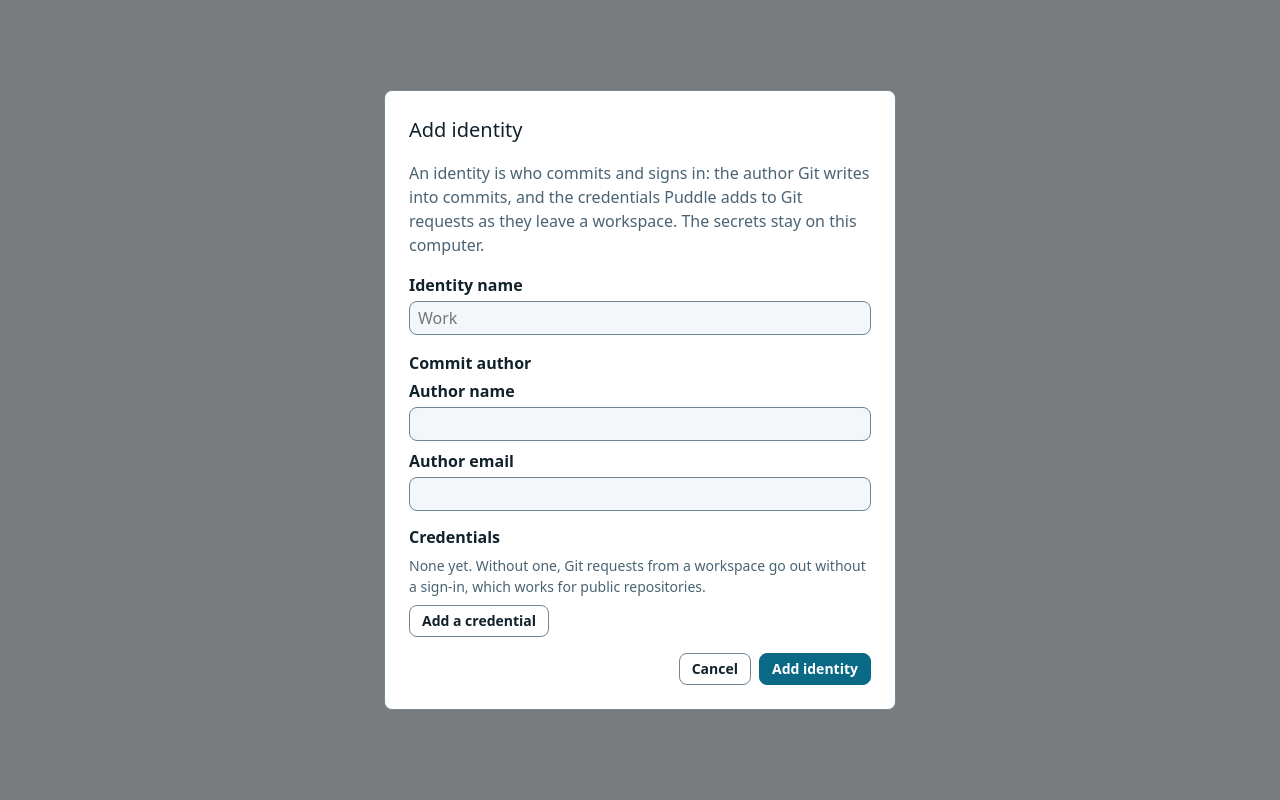
it: adding an identity › checks the name and the author first and puts focus on the first problem
Click the button "Add identity": coordinates (815, 669) left=759, top=653, right=871, bottom=685
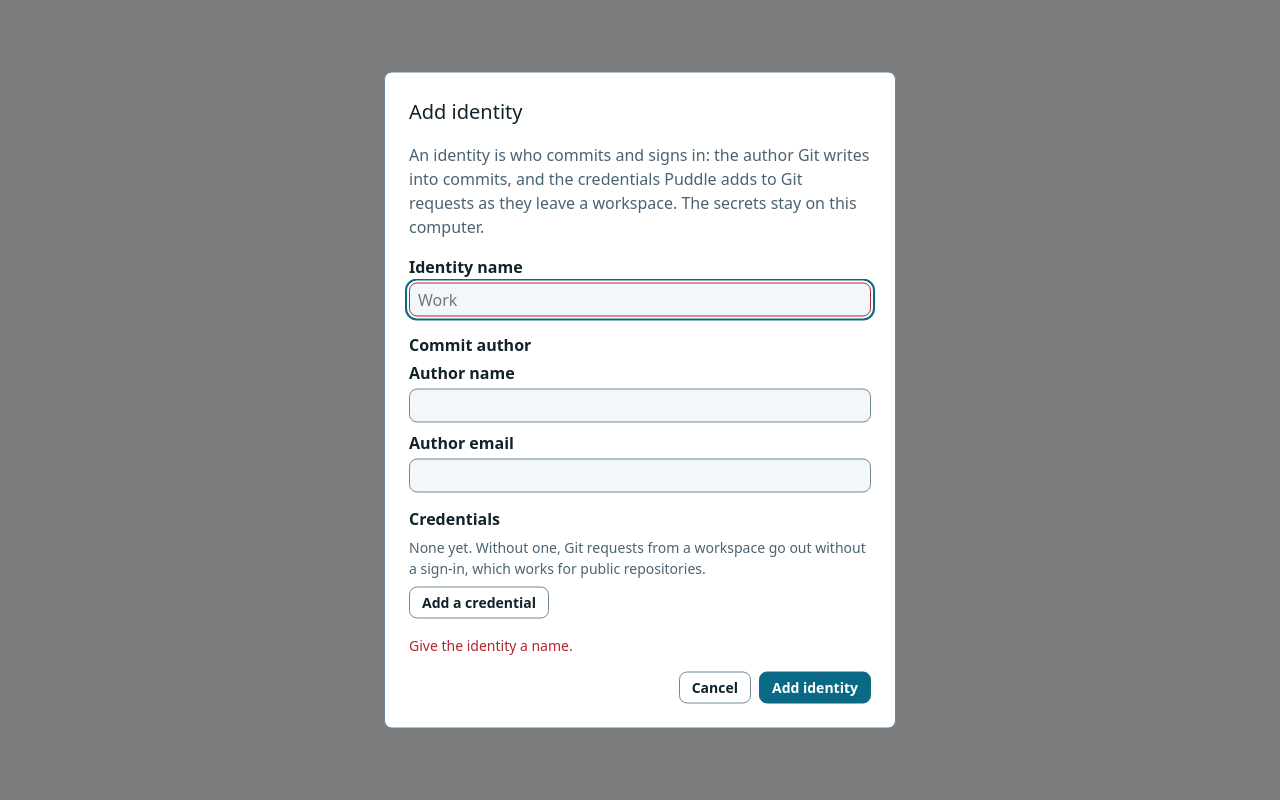
Check: the message shows "Give the identity a name", box left=409, top=636, right=573, bottom=654
In the field labelled "Identity name": coordinates (640, 300) left=409, top=282, right=871, bottom=316, type "work"
Click the button "Add identity": coordinates (815, 688) left=759, top=672, right=871, bottom=704
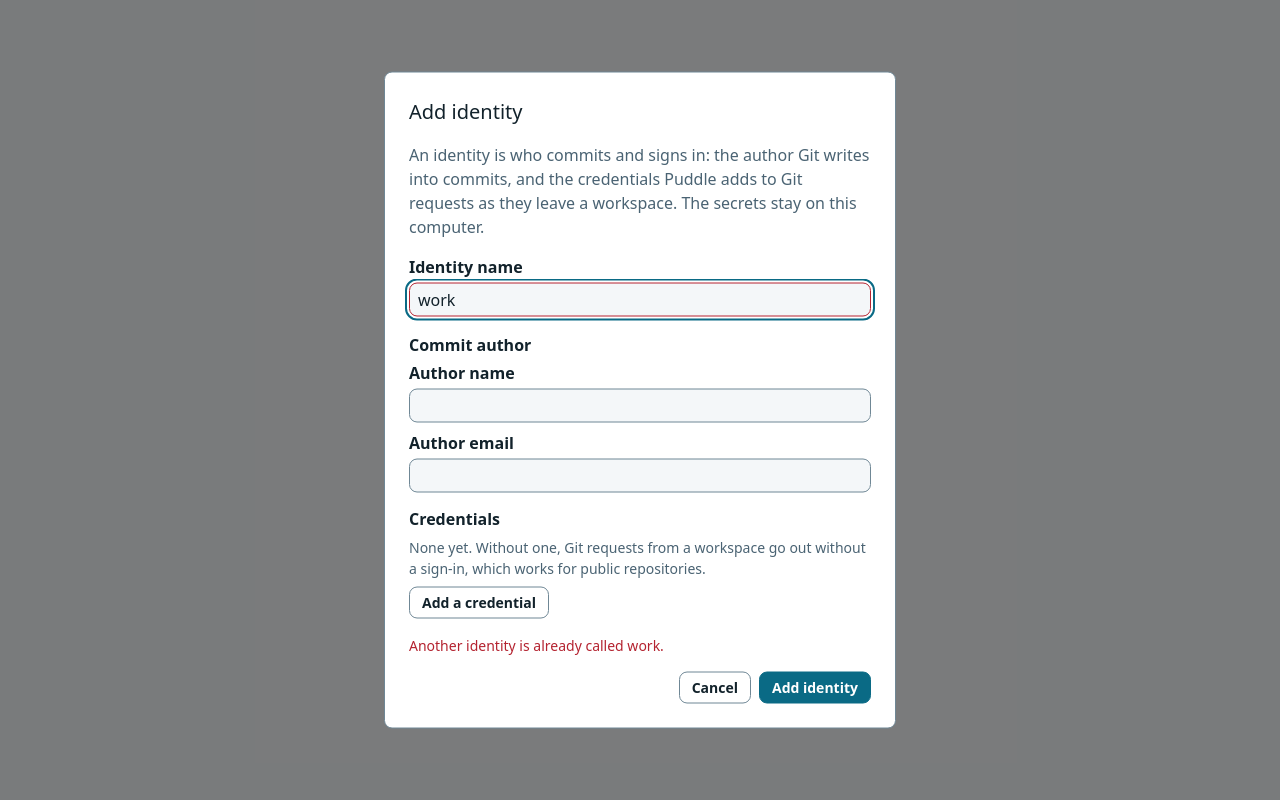
Check: the message shows "already called work", box left=409, top=636, right=664, bottom=654
Replace the text in the field labelled "Identity name" with "Home": coordinates (640, 300) left=409, top=282, right=871, bottom=316
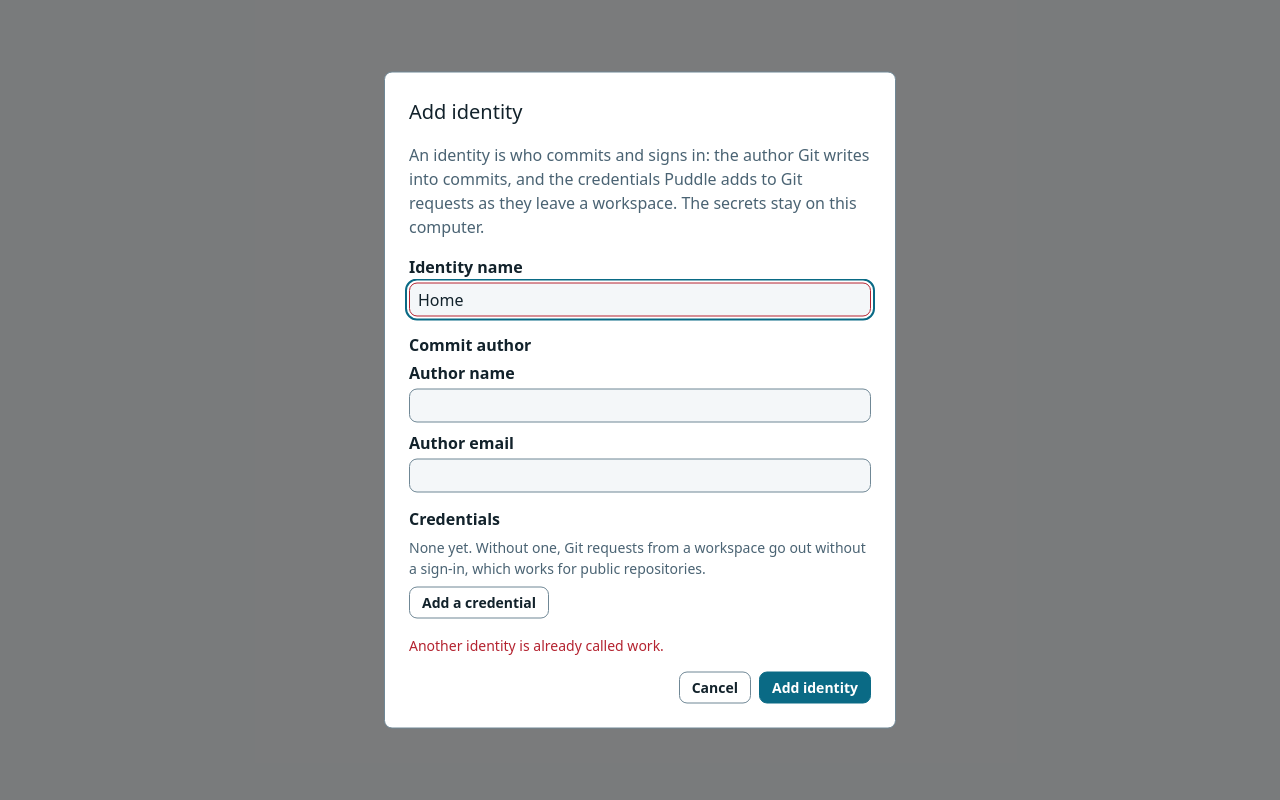
Click the button "Add identity": coordinates (815, 688) left=759, top=672, right=871, bottom=704
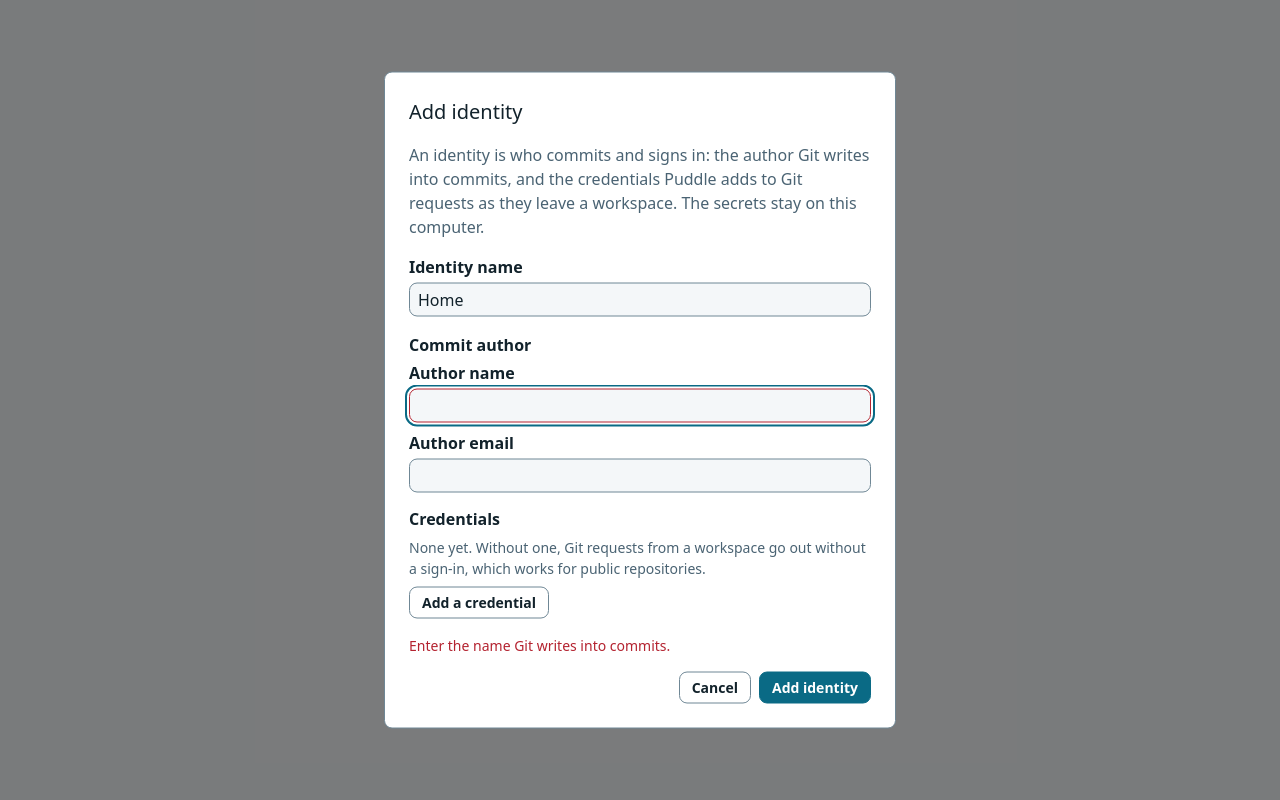
Check: the message shows "Enter the name Git writes", box left=409, top=636, right=670, bottom=654
In the field labelled "Author name": coordinates (640, 406) left=409, top=388, right=871, bottom=422, type "A"
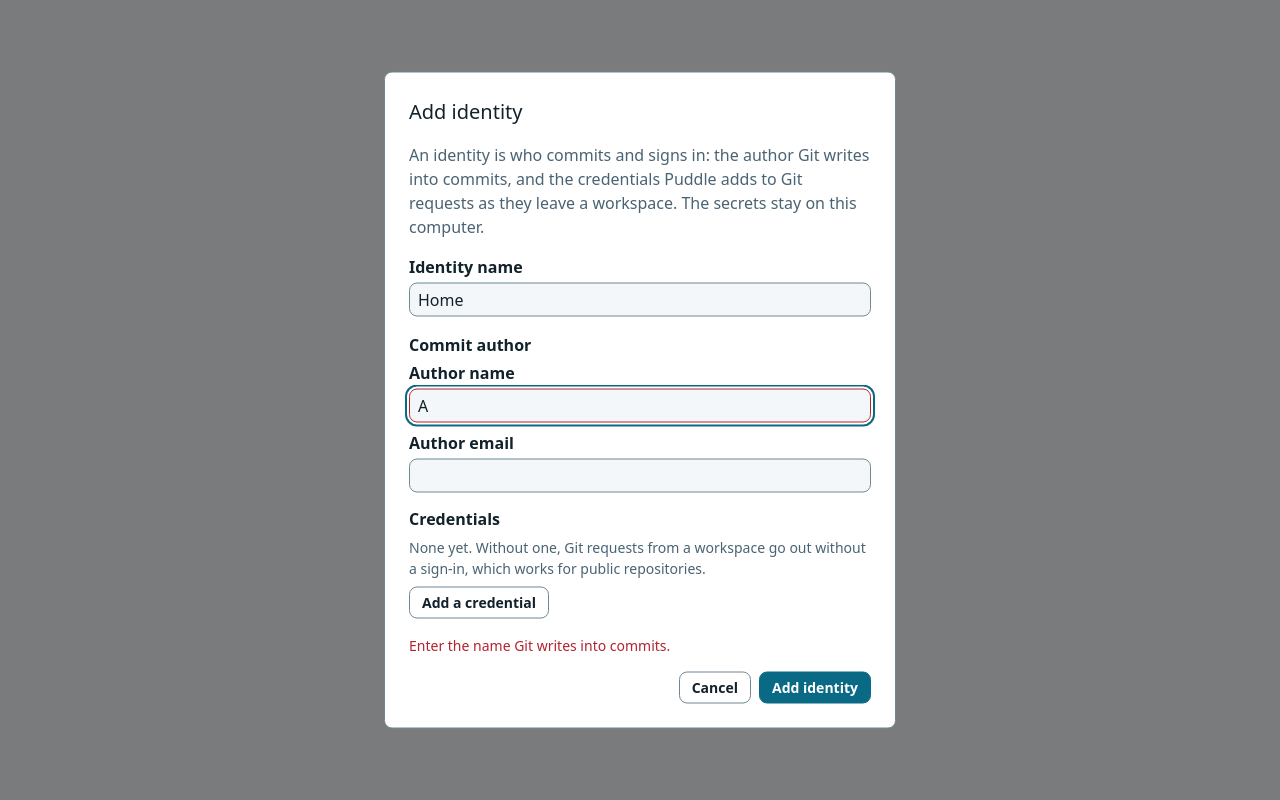
Click the button "Add identity": coordinates (815, 688) left=759, top=672, right=871, bottom=704
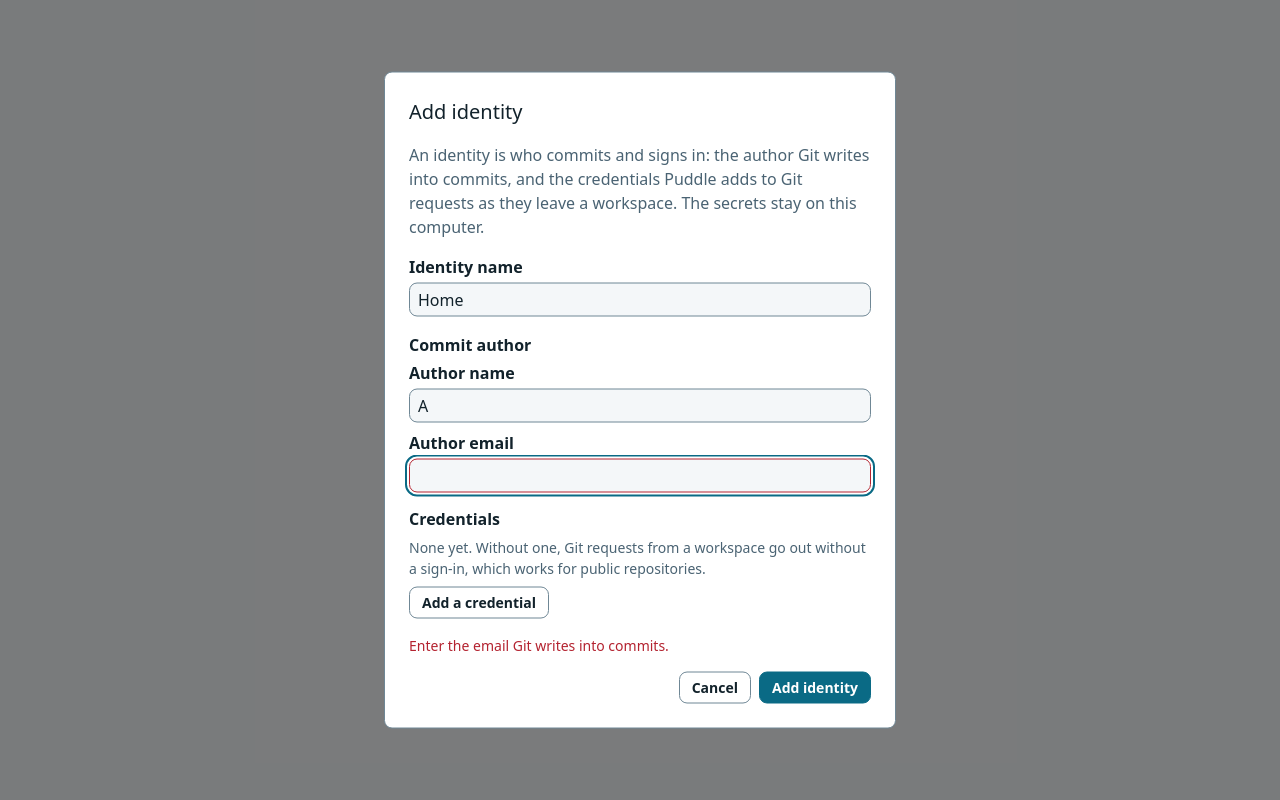
Check: the message shows "Enter the email", box left=409, top=636, right=669, bottom=654
